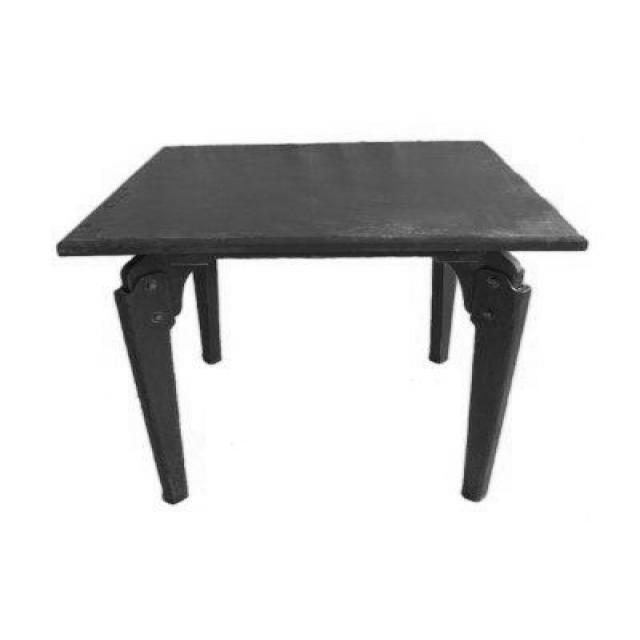table: (61, 140, 586, 505)
